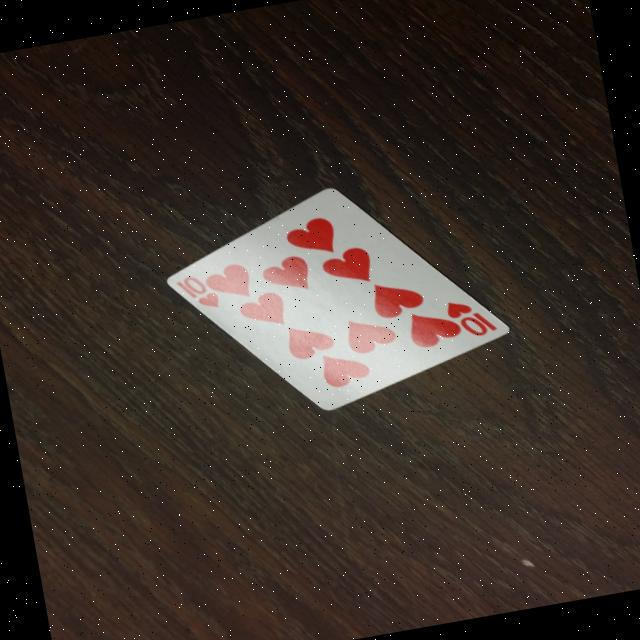10h: (436, 288, 508, 348), (170, 265, 230, 319)
